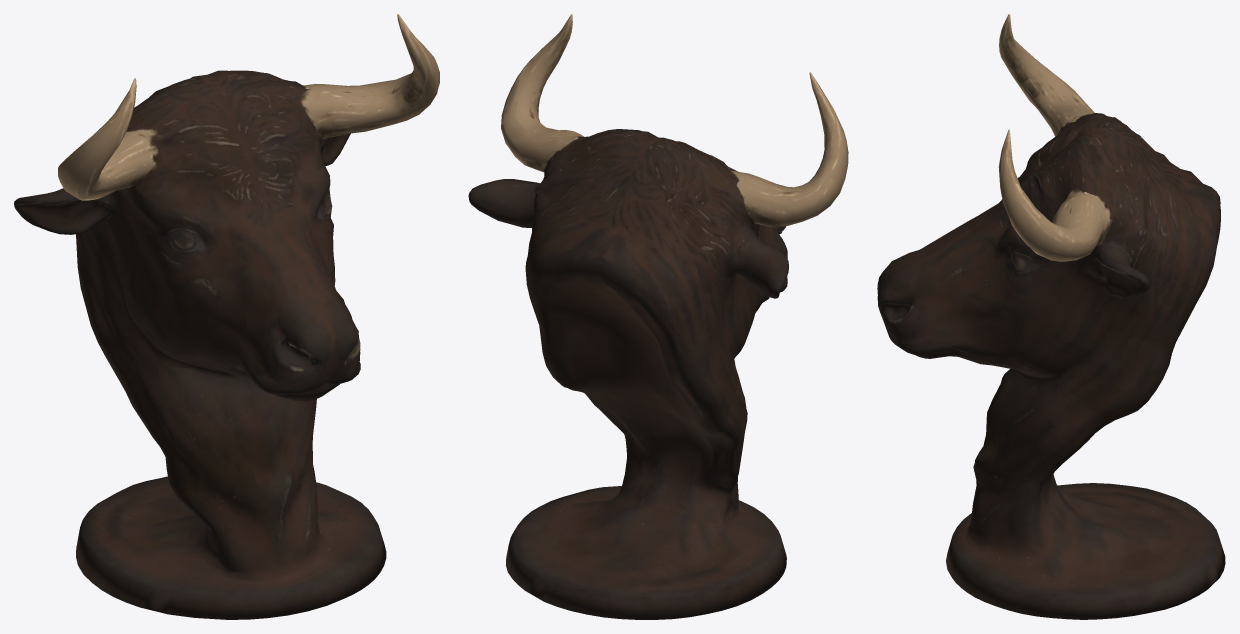
File: bull_head.glb
3 views of the same model, side by side, from view 1: azimuth 30°, elevation 25°; view 2: azimuth 150°, elevation 25°; view 3: azimuth 270°, elevation 25° (orthographic). The views are drawn at different scales.
Parts seen in each view (by area): view 1: bull_head; view 2: bull_head; view 3: bull_head.
Boxes of the visible parts, bbox=[...] form: bull_head: bbox=[14, 14, 439, 619]; bull_head: bbox=[468, 14, 848, 619]; bull_head: bbox=[877, 14, 1225, 619].
Bounding box in the file's own units: 0.3062 × 0.4329 × 0.2805.
Materials: 1 (1 with a texture image).
